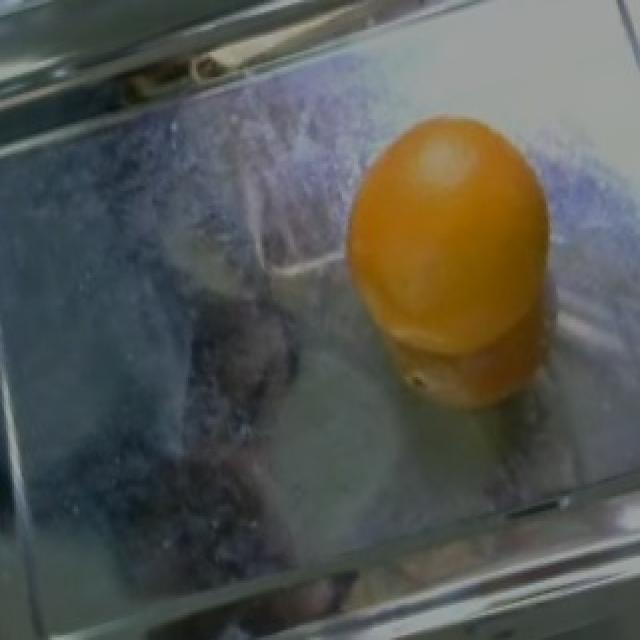Fruit: (320, 92, 574, 439)
